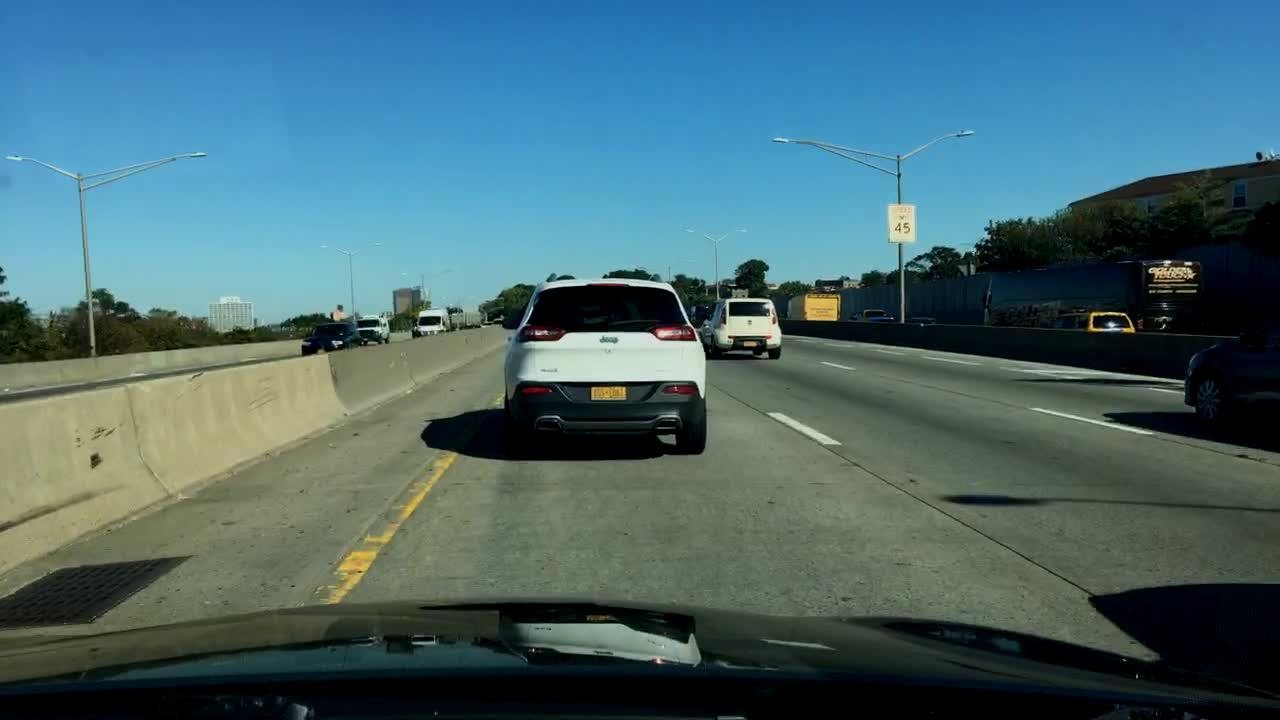jeep: (596, 330, 622, 346)
